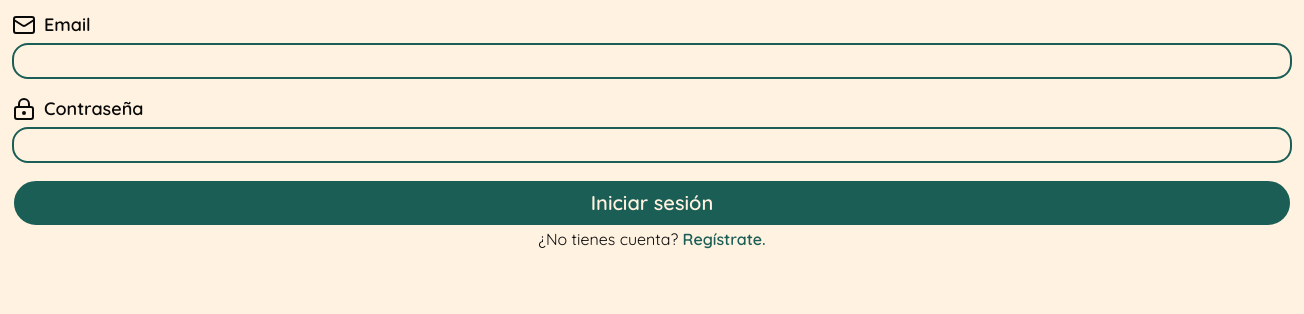
Test case: Given the LoginForm component › When it renders › And the user types an invalid email › Then it should show 'El email no es válido.' message
Type "email@test" into the field labelled "Email".
click(652, 61); type("email@test")  # box x1=12 y1=43 x2=1292 y2=79
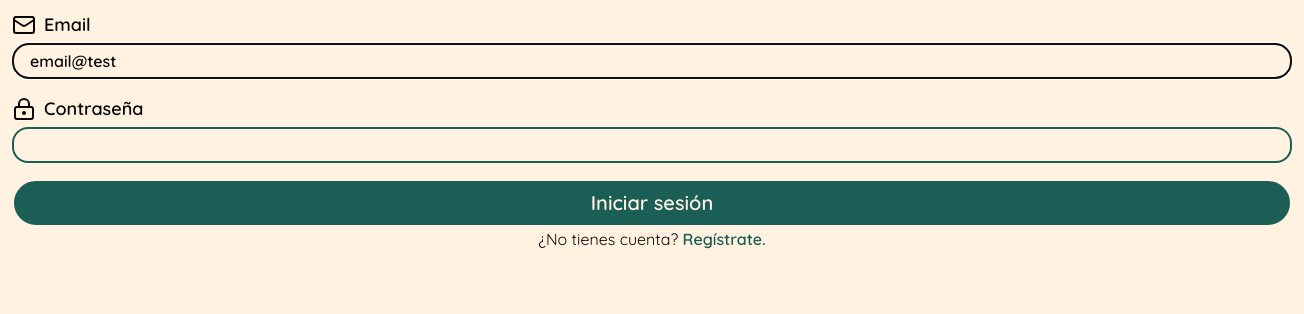
Click the button "Iniciar sesión".
click(652, 203)  # box x1=12 y1=179 x2=1292 y2=227
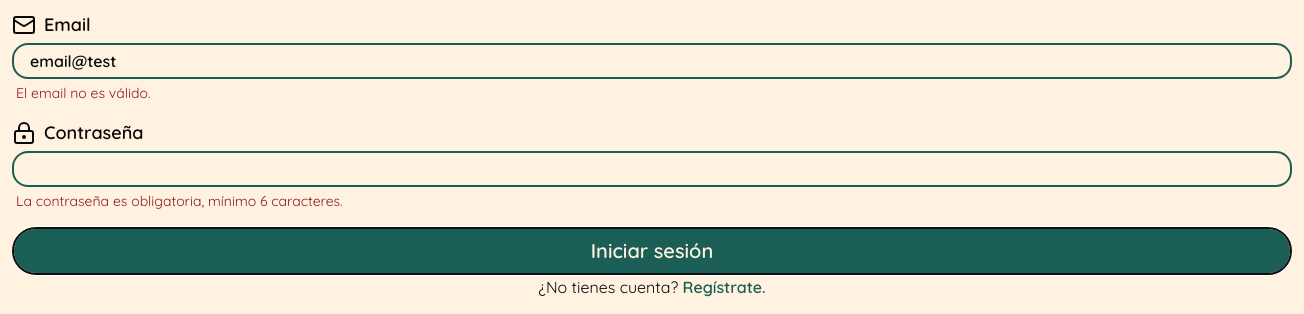
Expected: the text "El email no es válido." is shown, x1=16 y1=84 x2=150 y2=102
